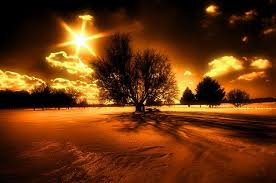ground: (6, 107, 273, 183)
sky: (3, 2, 271, 100)
tree: (106, 39, 173, 123)
